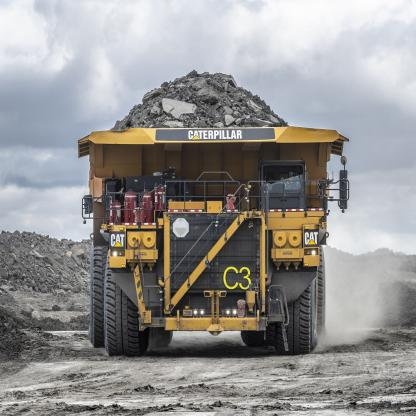dump_truck: (76, 67, 352, 366)
